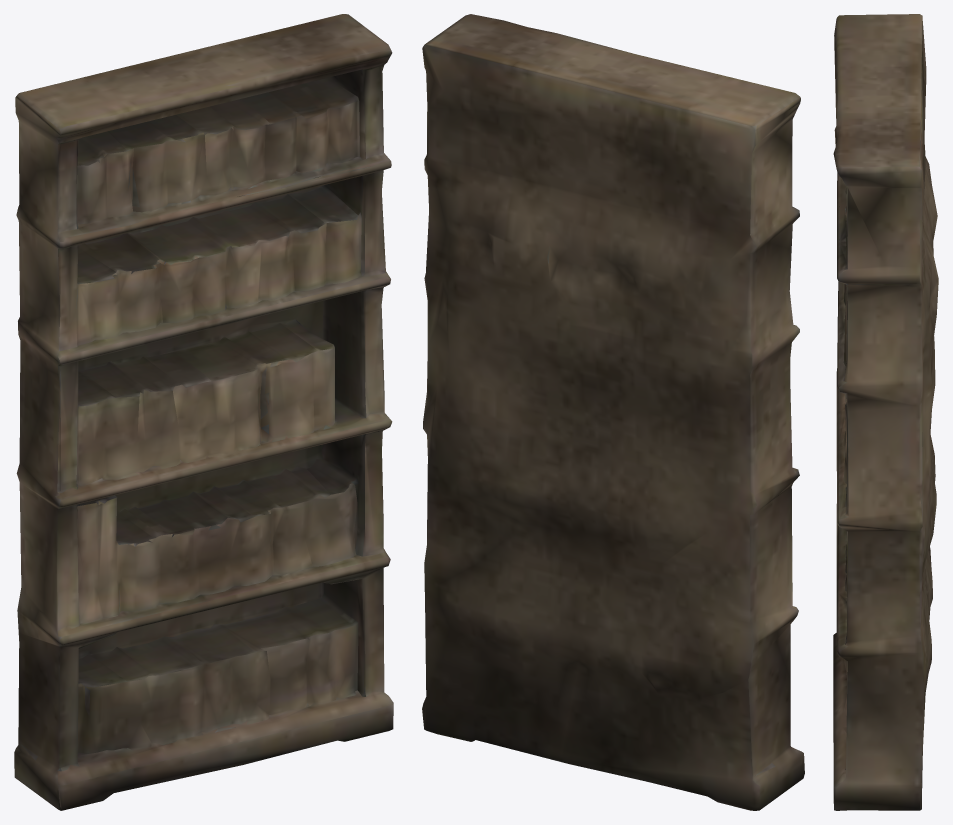
Rendered from weathered-wood-bookcase-v001.glb.
The picture shows the model from 3 angles, left to right: view 1: azimuth 30°, elevation 25°; view 2: azimuth 150°, elevation 25°; view 3: azimuth 270°, elevation 25°; orthographic projection. The views are drawn at different scales.
Visible parts, largest first — view 1: weathered-wood-bookcase; view 2: weathered-wood-bookcase; view 3: weathered-wood-bookcase.
Part boxes in pixels (left/top/right/bottom): weathered-wood-bookcase: left=14, top=14, right=393, bottom=810; weathered-wood-bookcase: left=422, top=14, right=804, bottom=810; weathered-wood-bookcase: left=833, top=14, right=938, bottom=810.
Bounding box in the file's own units: 0.9237 × 1.8 × 0.2659.
Materials: 1 (1 with a texture image).
